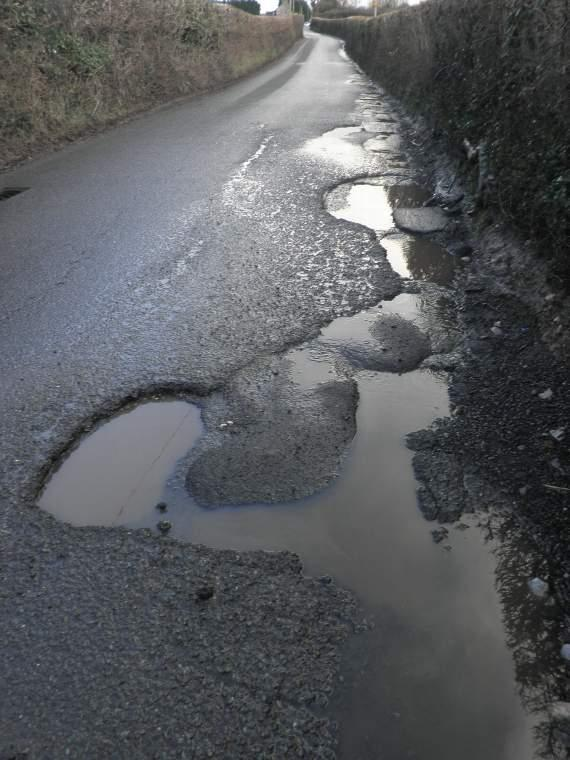Pothole: (36, 145, 544, 760), (305, 151, 471, 288)
